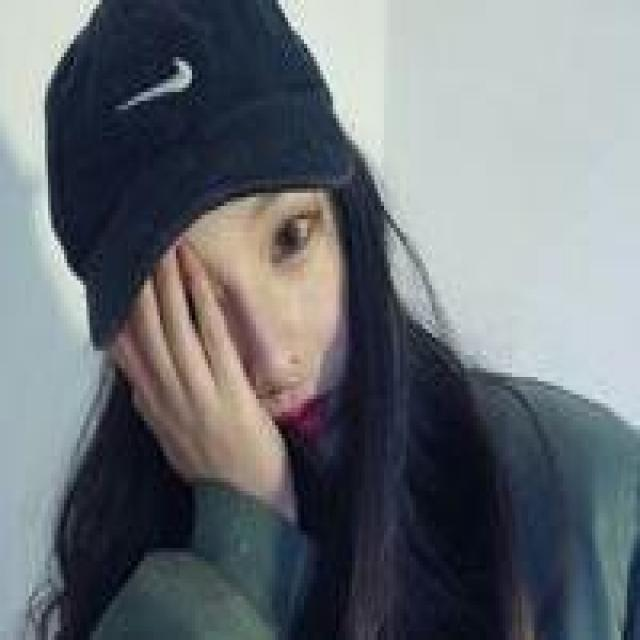mask: (149, 149, 350, 491)
